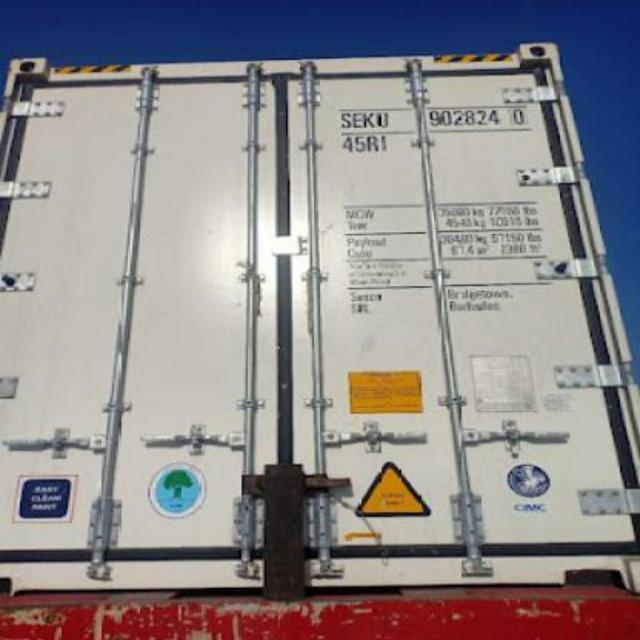0: (506, 102, 530, 130), (440, 108, 452, 128)
2: (452, 105, 464, 131), (476, 106, 488, 126)
4: (486, 108, 504, 128)
8: (464, 105, 476, 131)
9: (426, 108, 439, 128)
E: (351, 108, 364, 132)
K: (362, 108, 376, 128)
S: (336, 108, 352, 132)
U: (374, 110, 390, 130)
